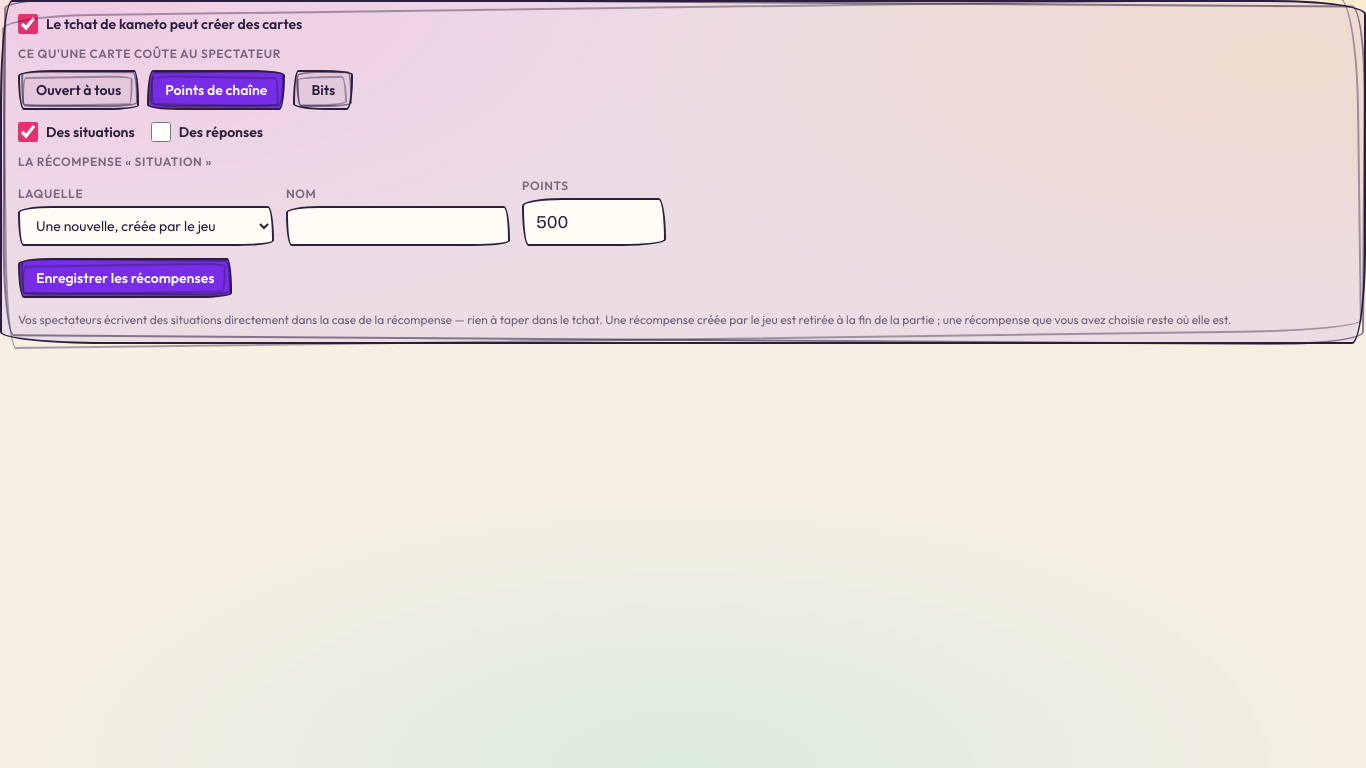
it: ChatCardsForm › confirms a save only once the reward is actually on the channel
The image size is (1366, 768).
Click the button "Enregistrer les récompenses" at (125, 278), box [18, 258, 232, 298]
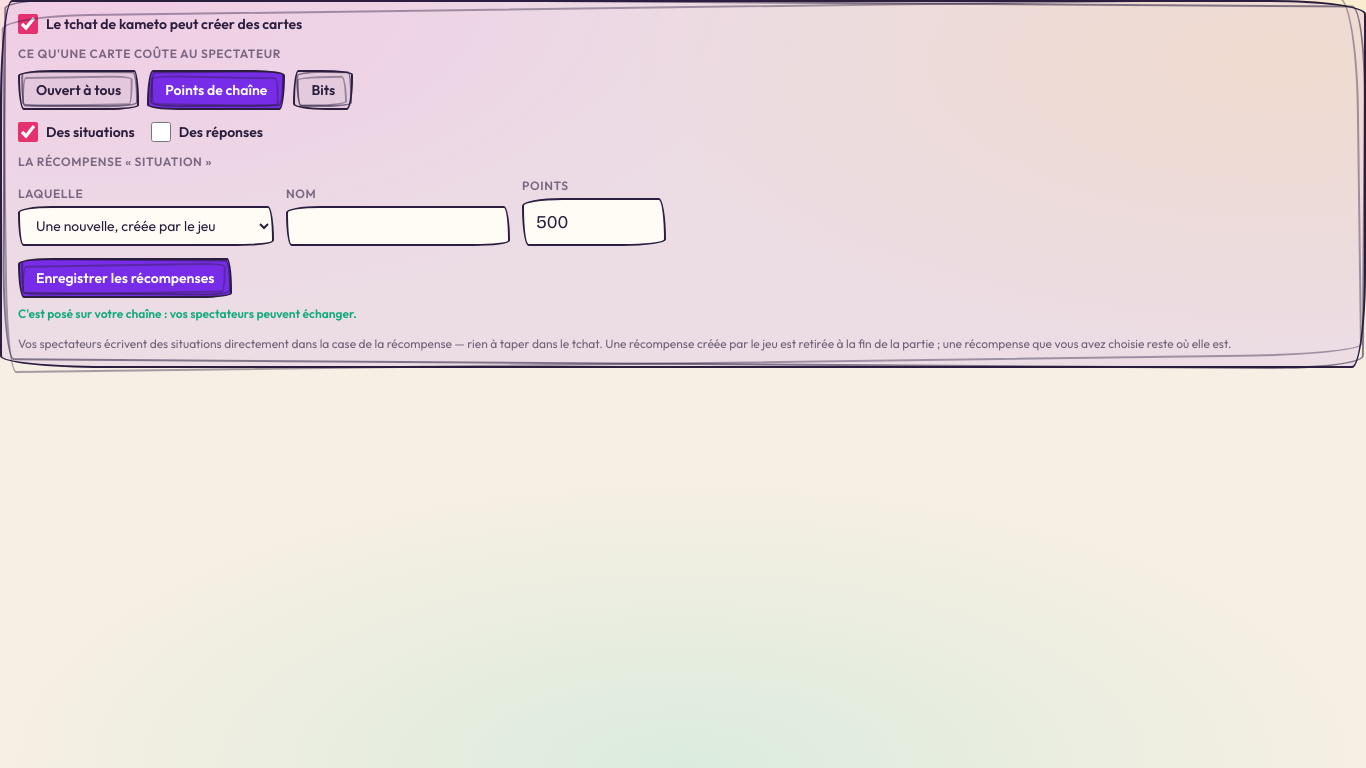
Expected: the text "C'est posé sur votre chaîne" is shown, [18, 306, 357, 321]
